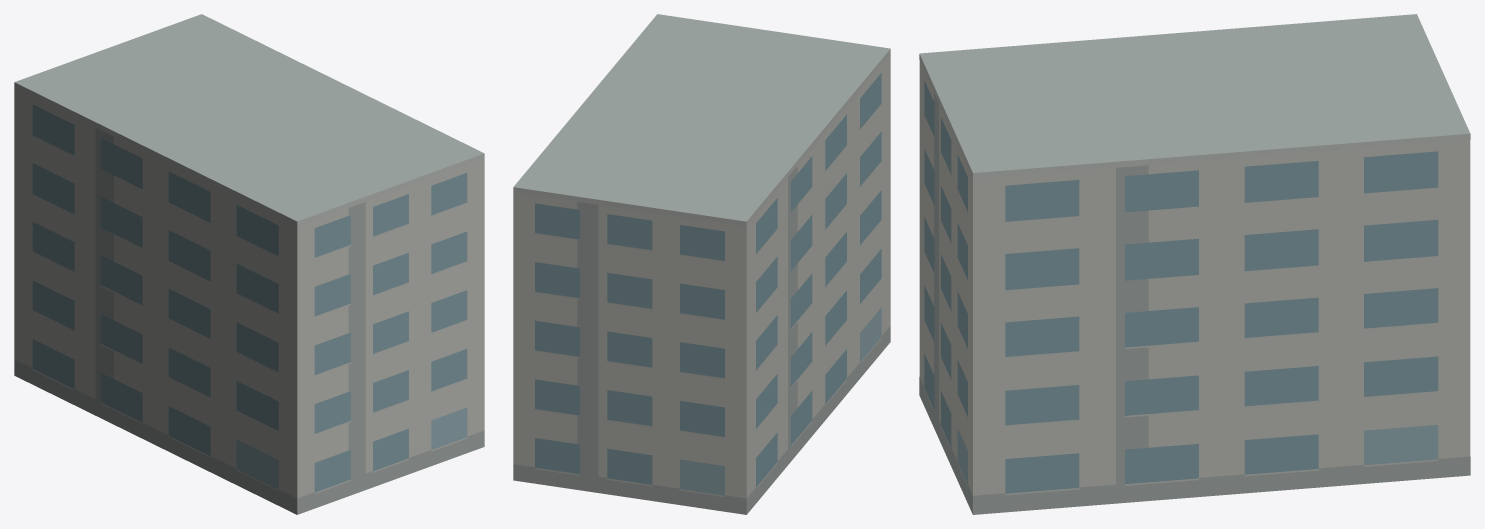
File: survey-upis-32638564.glb
3 views of the same model, side by side, from view 1: azimuth 30°, elevation 25°; view 2: azimuth 150°, elevation 25°; view 3: azimuth 270°, elevation 25° (orthographic). The views are drawn at different scales.
Visible parts, largest first — view 1: survey-upis-32638564.tmp; view 2: survey-upis-32638564.tmp; view 3: survey-upis-32638564.tmp.
Part boxes in pixels (x1,y1,x2,y2): survey-upis-32638564.tmp: [14, 14, 484, 514]; survey-upis-32638564.tmp: [513, 14, 890, 514]; survey-upis-32638564.tmp: [919, 14, 1470, 514].
Size of the model in its own units: 13.58 by 13.6 by 19.88.
